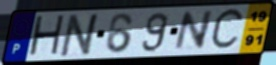6: (104, 12, 136, 56)
9: (140, 11, 169, 53)
C: (208, 6, 246, 53)
H: (26, 13, 67, 59)
N: (57, 12, 104, 59), (172, 9, 216, 53)
